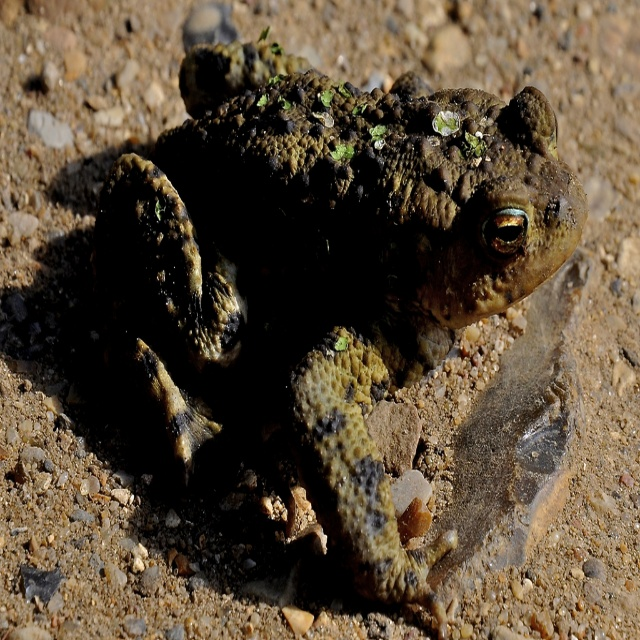Frog: (82, 31, 586, 639)
